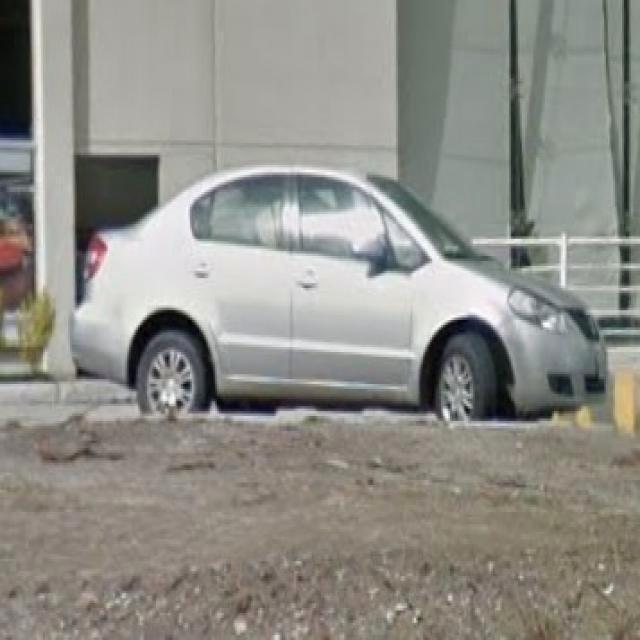Car: (70, 157, 612, 426)
